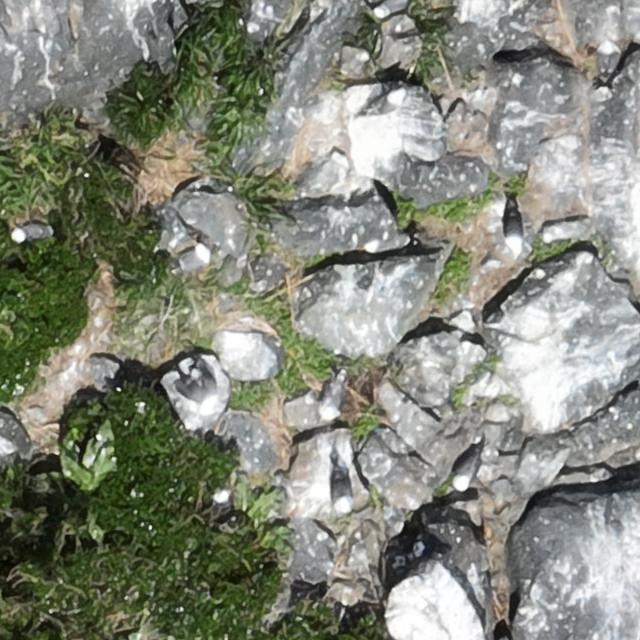umineko: (176, 374, 218, 414), (353, 88, 408, 116), (503, 202, 528, 256), (331, 462, 351, 516), (176, 248, 209, 271), (13, 224, 48, 242), (454, 458, 473, 485), (600, 42, 616, 74), (214, 491, 231, 520), (374, 0, 404, 15)
